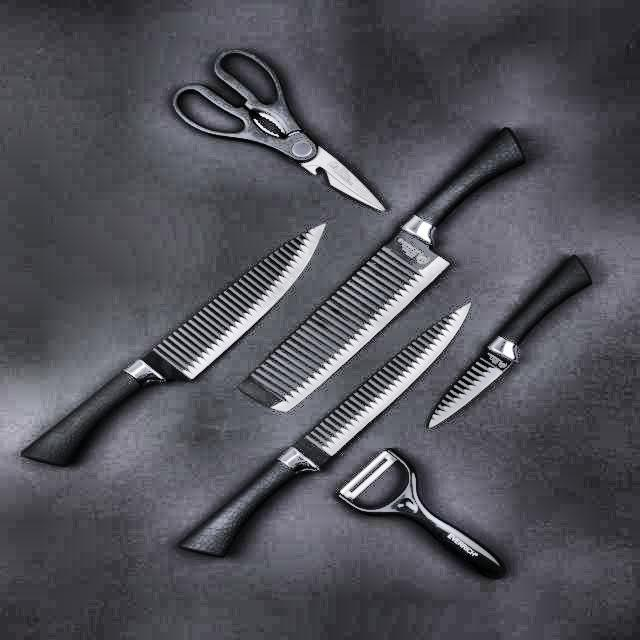knife: (177, 288, 480, 562), (250, 126, 536, 415), (32, 216, 342, 469), (417, 251, 617, 431)
